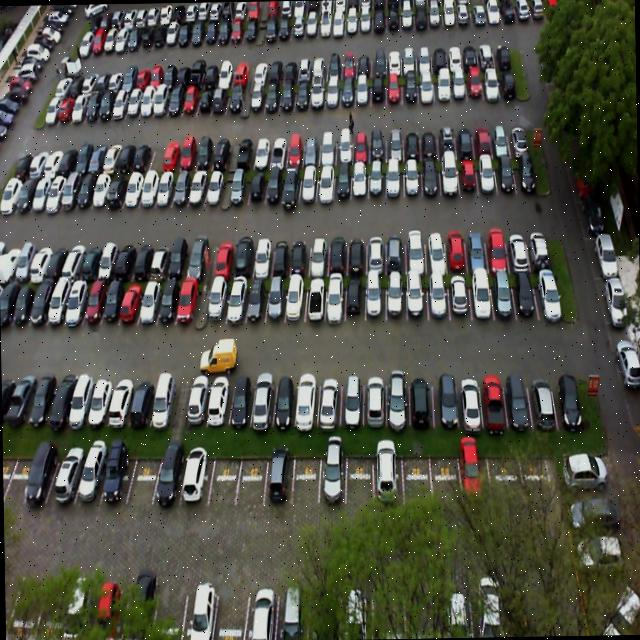empty: (125, 448, 162, 508), (234, 454, 268, 510), (208, 452, 242, 504), (292, 452, 320, 508)
occupied: (96, 451, 136, 509), (45, 452, 82, 508), (150, 449, 186, 506), (73, 452, 109, 508), (178, 450, 214, 502), (225, 373, 258, 429), (504, 371, 534, 431), (550, 368, 582, 424), (317, 454, 348, 511), (22, 453, 58, 502), (264, 452, 296, 506), (64, 373, 94, 428), (528, 369, 556, 427), (116, 276, 146, 328), (84, 377, 114, 428), (106, 377, 136, 428), (222, 274, 250, 328), (432, 376, 460, 430), (456, 374, 484, 427), (482, 371, 508, 428), (270, 376, 298, 428), (128, 375, 156, 426), (248, 375, 276, 426), (316, 374, 341, 431), (136, 272, 162, 326), (262, 272, 288, 326), (205, 374, 232, 425), (534, 267, 562, 316), (150, 379, 178, 428), (174, 276, 200, 328), (410, 374, 435, 428), (363, 372, 387, 428), (338, 374, 364, 425), (154, 278, 180, 328), (100, 275, 125, 326), (242, 276, 266, 328), (490, 271, 516, 319), (294, 376, 318, 428), (386, 372, 410, 424), (486, 224, 511, 273), (183, 378, 209, 423), (445, 224, 469, 272), (128, 239, 156, 280), (528, 226, 554, 269), (206, 276, 226, 331), (304, 276, 326, 326), (146, 240, 172, 282), (112, 242, 140, 280), (166, 242, 194, 280), (470, 273, 492, 321), (512, 274, 536, 318), (509, 224, 531, 270), (323, 278, 345, 324), (186, 166, 210, 208), (427, 227, 448, 275), (447, 276, 471, 318), (188, 241, 213, 281), (153, 167, 176, 210), (136, 167, 160, 208), (284, 277, 304, 326), (365, 276, 386, 322), (407, 274, 428, 320), (428, 276, 449, 322), (513, 152, 537, 192), (171, 167, 193, 210), (467, 226, 488, 271), (407, 225, 427, 272), (229, 165, 251, 207), (384, 230, 406, 272), (203, 168, 225, 209), (288, 235, 310, 276), (386, 275, 405, 322), (230, 240, 252, 280), (346, 232, 366, 276), (308, 234, 329, 274), (213, 242, 236, 278), (347, 276, 365, 322), (325, 235, 346, 274), (252, 237, 274, 274), (298, 165, 318, 205), (366, 234, 386, 274), (270, 238, 292, 274), (479, 154, 498, 195), (368, 160, 387, 200), (266, 166, 284, 208), (282, 164, 300, 206), (495, 156, 516, 192), (460, 160, 480, 196), (249, 166, 267, 205), (332, 165, 350, 202), (388, 160, 405, 199), (423, 160, 441, 196), (404, 161, 422, 196), (441, 159, 459, 193), (351, 163, 368, 197), (316, 166, 332, 202)
